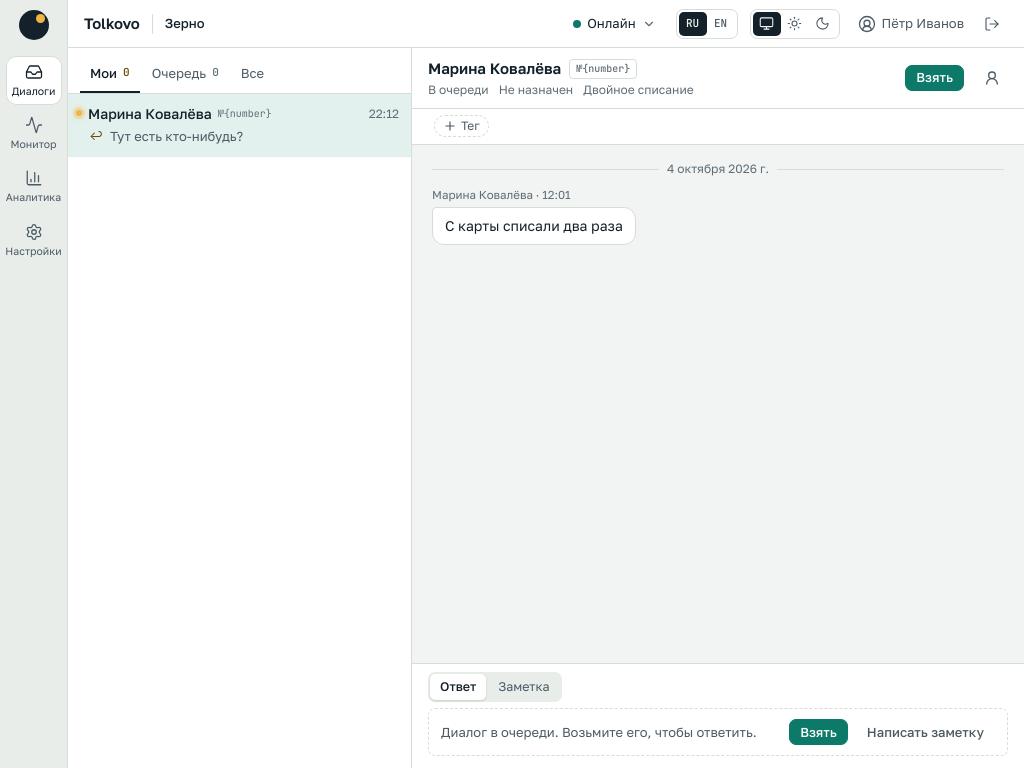
Scenario: composer › offers to take a queued conversation before replying
Expected: the text "Диалог в очереди. Возьмите его, чтобы ответить." is shown, [441,723,757,741]
Expected: the field labelled "Ответ клиенту" is not shown
Click the button "Взять" in the row of "Двойное списание": point(935, 78) [905,65,964,91]
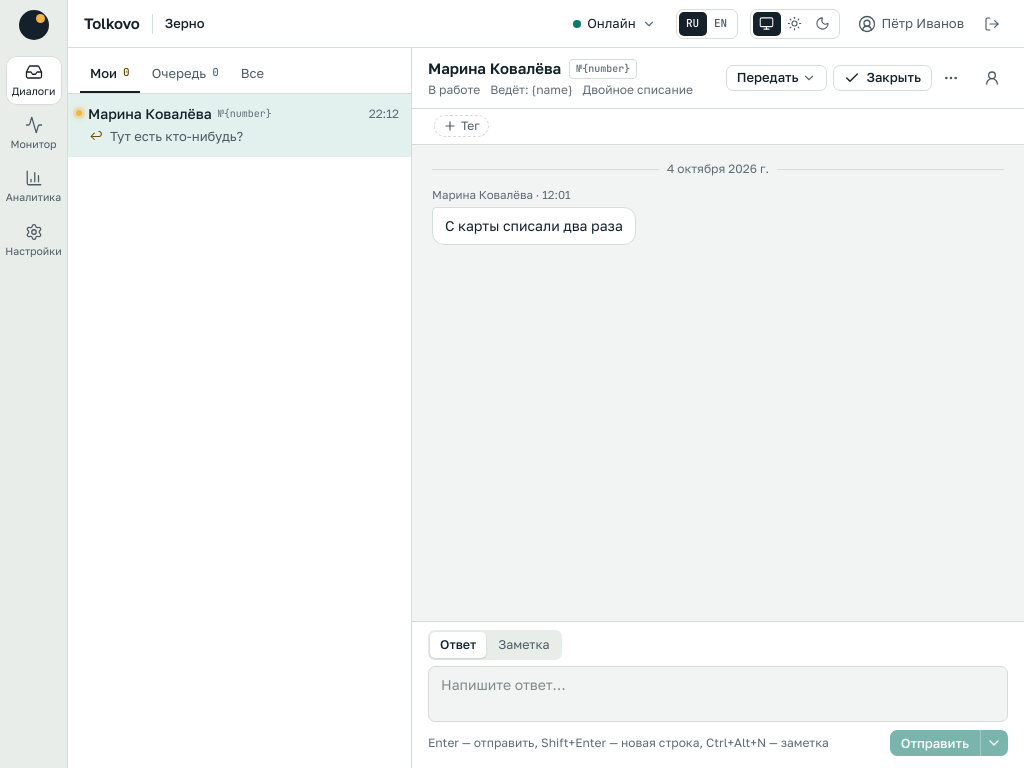
Expected: the text box named "Ответ клиенту" is shown, [428,666,1008,722]
